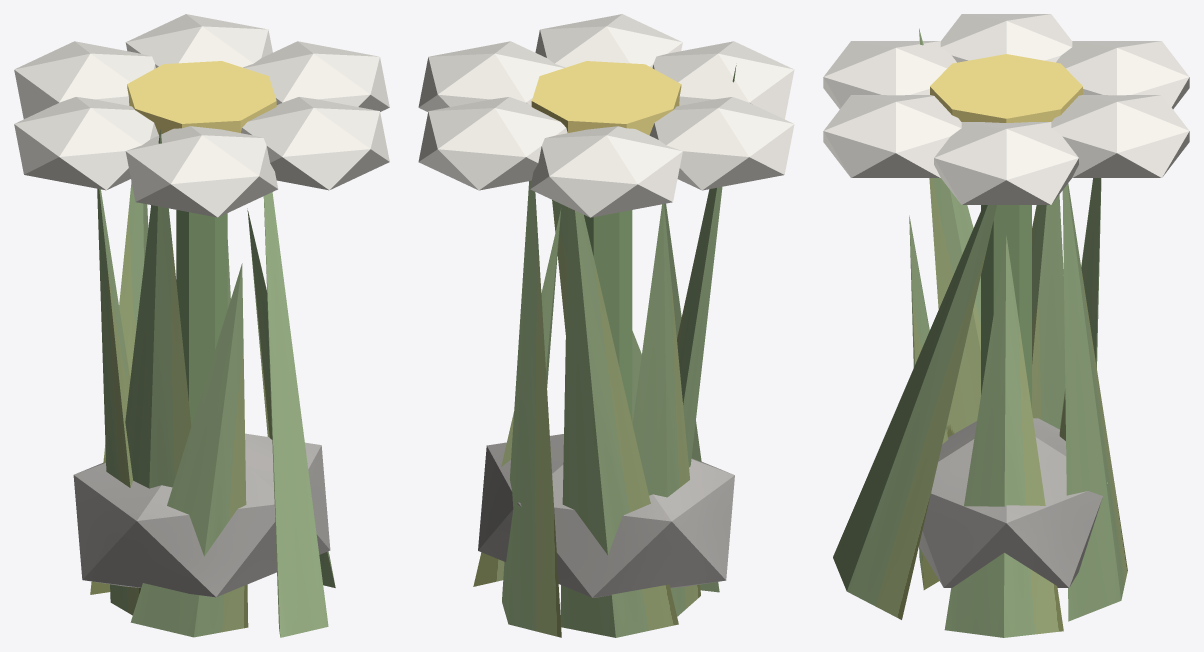
Rendered from meadow.glb.
3 views of the same model, side by side, from view 1: azimuth 30°, elevation 25°; view 2: azimuth 150°, elevation 25°; view 3: azimuth 270°, elevation 25° (orthographic).
Visible parts, largest first — view 1: Flower, GrassTuft, Pebble; view 2: Flower, GrassTuft, Pebble; view 3: GrassTuft, Flower, Pebble.
Boxes of the visible parts, box(x1,y1,x2,y2) form: Flower: box(14, 14, 389, 425); GrassTuft: box(90, 129, 335, 637); Pebble: box(73, 433, 330, 597); Flower: box(418, 14, 794, 422); GrassTuft: box(473, 65, 736, 637); Pebble: box(478, 434, 734, 597); GrassTuft: box(833, 28, 1127, 637); Flower: box(823, 14, 1189, 409); Pebble: box(919, 418, 1107, 587).
Bounding box in the file's own units: 0.2394 × 0.3366 × 0.215.
Materials: 6 (2 with a texture image).
